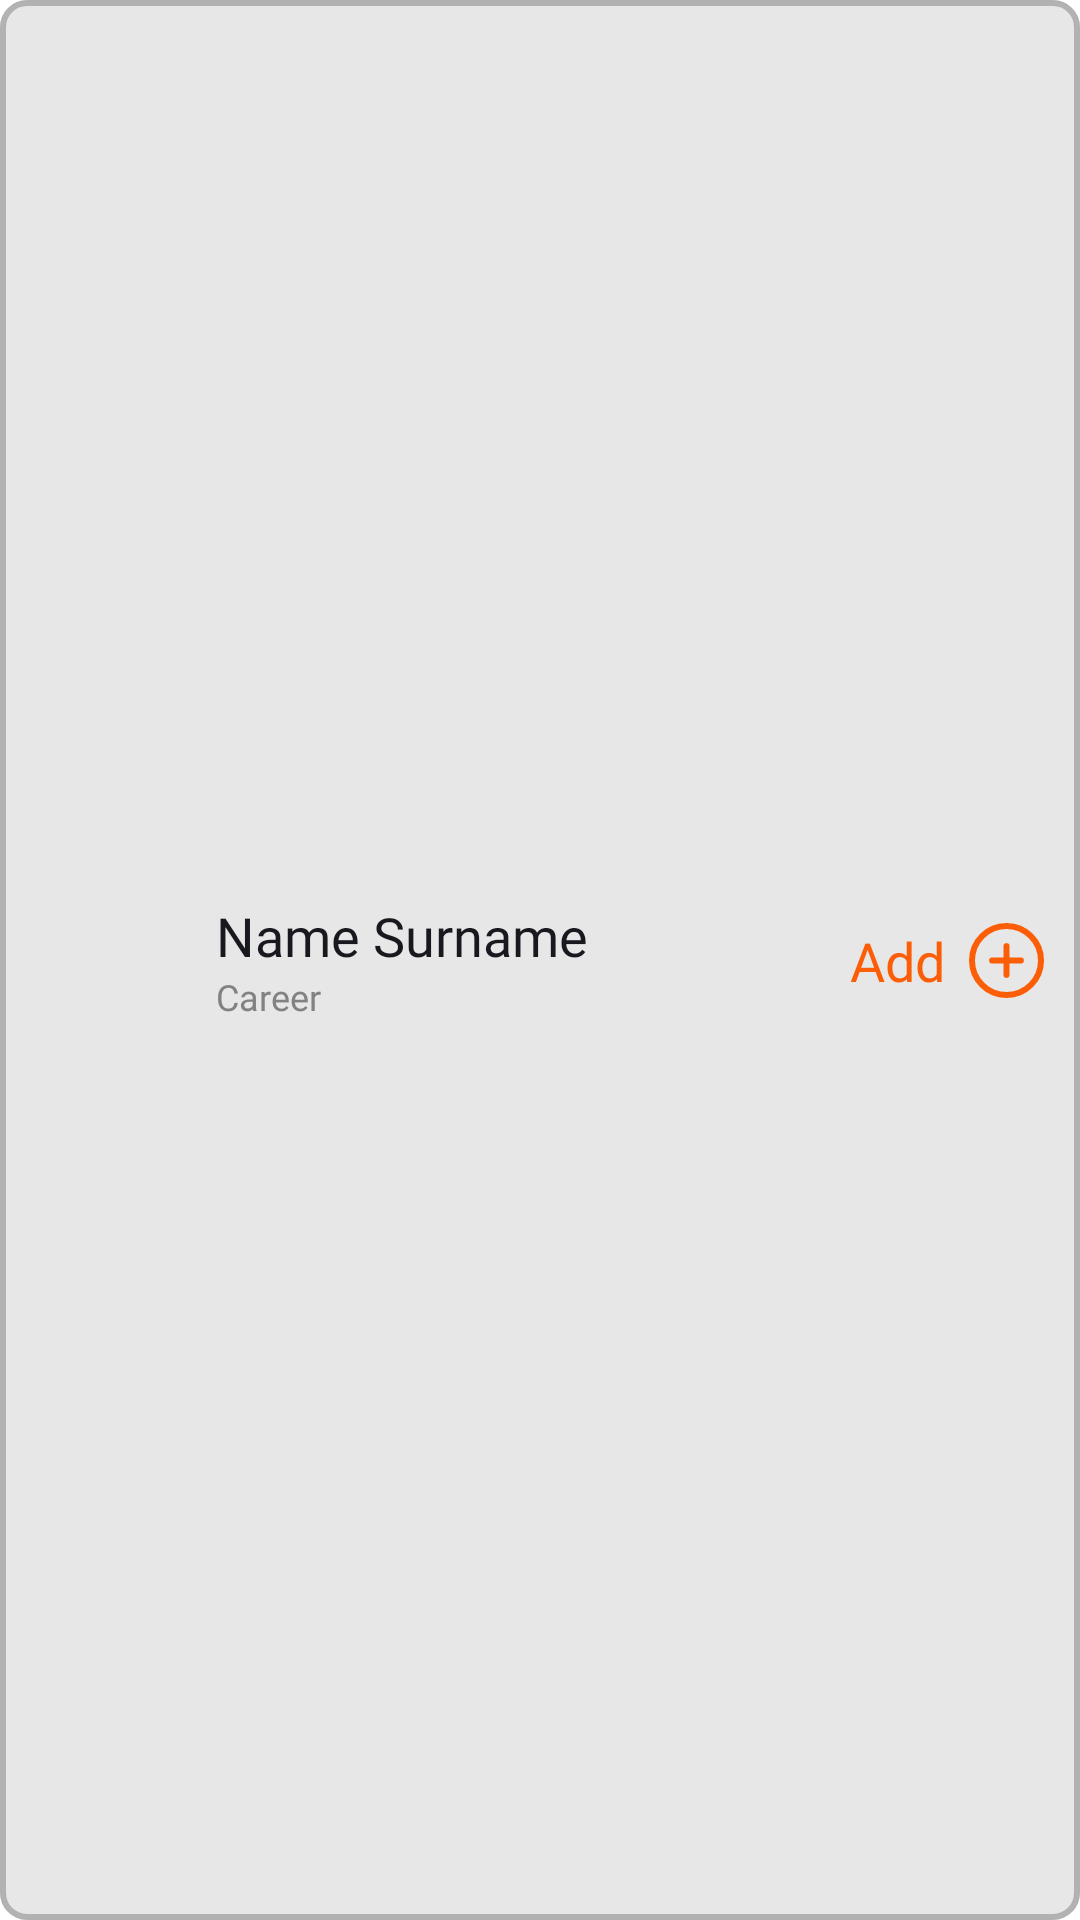

Screen size 1080 × 1920. Icon name, then its center in pixels as point (x, y):
frame plus: point (1006, 960)
